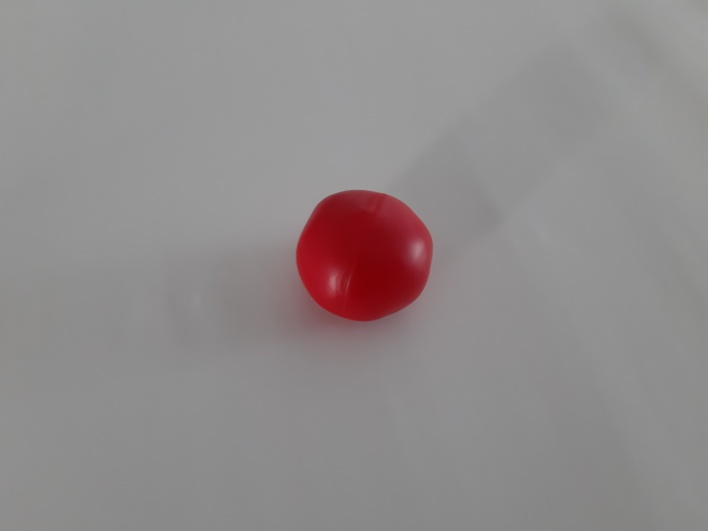tomato: (286, 176, 447, 336)
